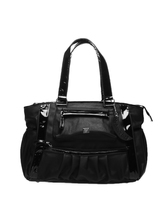bag: (16, 37, 156, 186)
